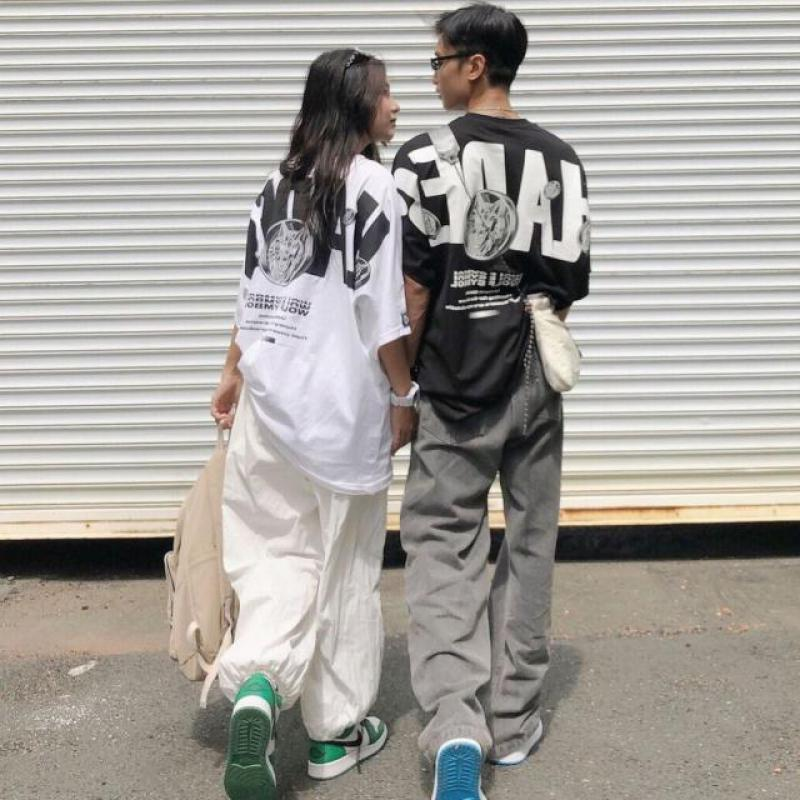short sleeve shirt: (390, 111, 596, 423), (233, 153, 412, 495)
trousers: (399, 349, 566, 767), (219, 382, 389, 745)
